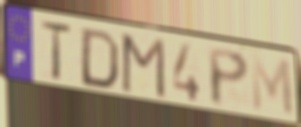4: (171, 41, 201, 106)
D: (78, 26, 122, 92)
M: (119, 31, 167, 102), (249, 52, 297, 120)
P: (206, 46, 251, 110)
T: (38, 19, 74, 84)
